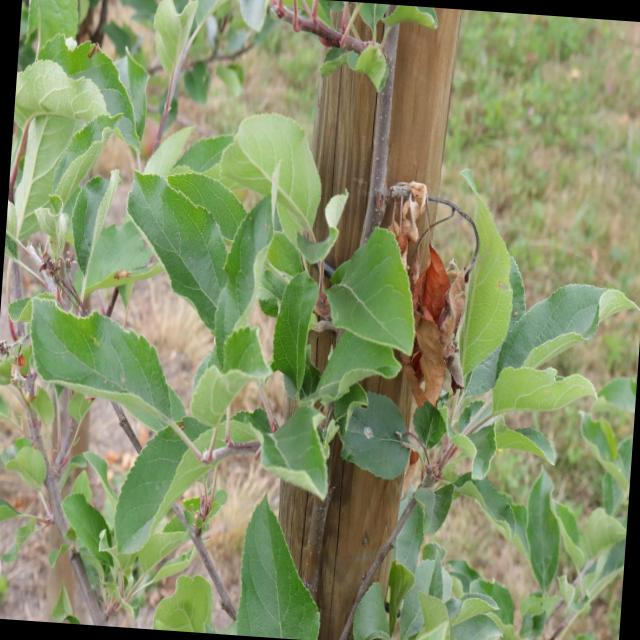-FireBlight-: (362, 184, 492, 474)
